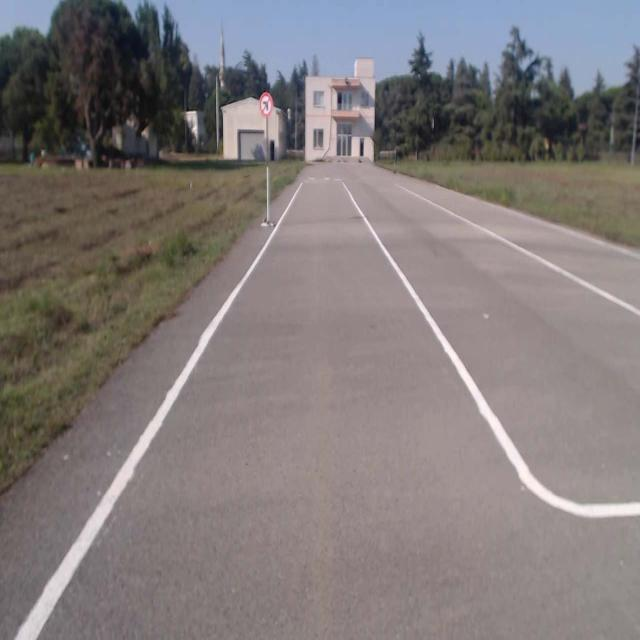soladonulmez: (259, 92, 273, 116)
